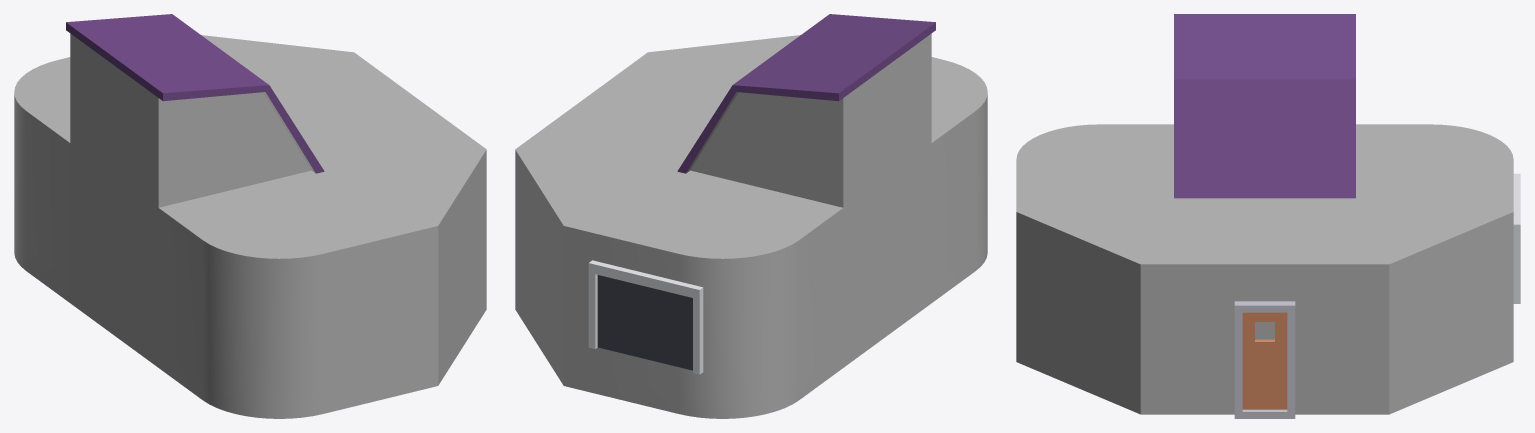
The model's file is simple_house_model.fbx.
3 views of the same model, side by side, from view 1: azimuth 30°, elevation 25°; view 2: azimuth 150°, elevation 25°; view 3: azimuth 270°, elevation 25° (orthographic). The views are drawn at different scales.
Visible parts, largest first — view 1: block_corner_round_small_4, roof_barn_8, block_corner_large_3, block_5, block_corner_round_small_6, block_2, block_corner_large_0; view 2: block_corner_round_small_6, roof_barn_8, block_corner_large_0, block_5, block_corner_round_small_4, block_2, garage_wide_7, block_corner_large_3; view 3: roof_barn_8, block_corner_large_3, block_corner_large_0, block_2, block_corner_round_small_6, block_corner_round_small_4, door_square_9, garage_wide_7.
Part boxes in pixels (x1=…): block_corner_round_small_4: x1=158, y1=170, x2=399, y2=418; roof_barn_8: x1=66, y1=14, x2=324, y2=207; block_corner_large_3: x1=316, y1=133, x2=486, y2=395; block_5: x1=70, y1=143, x2=158, y2=367; block_corner_round_small_6: x1=14, y1=57, x2=70, y2=302; block_2: x1=275, y1=68, x2=464, y2=167; block_corner_large_0: x1=201, y1=35, x2=375, y2=92; block_corner_round_small_6: x1=602, y1=170, x2=843, y2=418; roof_barn_8: x1=677, y1=14, x2=935, y2=207; block_corner_large_0: x1=515, y1=133, x2=685, y2=395; block_5: x1=843, y1=143, x2=931, y2=367; block_corner_round_small_4: x1=931, y1=57, x2=987, y2=302; block_2: x1=537, y1=68, x2=726, y2=167; garage_wide_7: x1=588, y1=260, x2=703, y2=374; block_corner_large_3: x1=626, y1=35, x2=800, y2=92; roof_barn_8: x1=1174, y1=14, x2=1355, y2=198; block_corner_large_3: x1=1016, y1=194, x2=1182, y2=414; block_corner_large_0: x1=1348, y1=194, x2=1513, y2=414; block_2: x1=1182, y1=198, x2=1347, y2=414; block_corner_round_small_6: x1=1356, y1=124, x2=1513, y2=194; block_corner_round_small_4: x1=1016, y1=124, x2=1173, y2=194; door_square_9: x1=1234, y1=301, x2=1295, y2=418; garage_wide_7: x1=1513, y1=173, x2=1520, y2=303.
Bounding box in the file's own units: 20.62 × 17.35 × 30.42.
